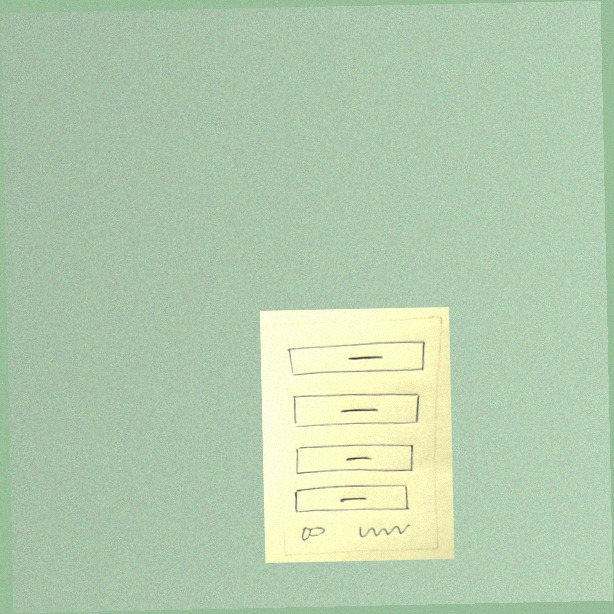button: (284, 338, 427, 380), (289, 390, 424, 429), (293, 439, 419, 476), (291, 482, 412, 518)
switch: (297, 523, 329, 544)
text: (354, 519, 412, 545)
